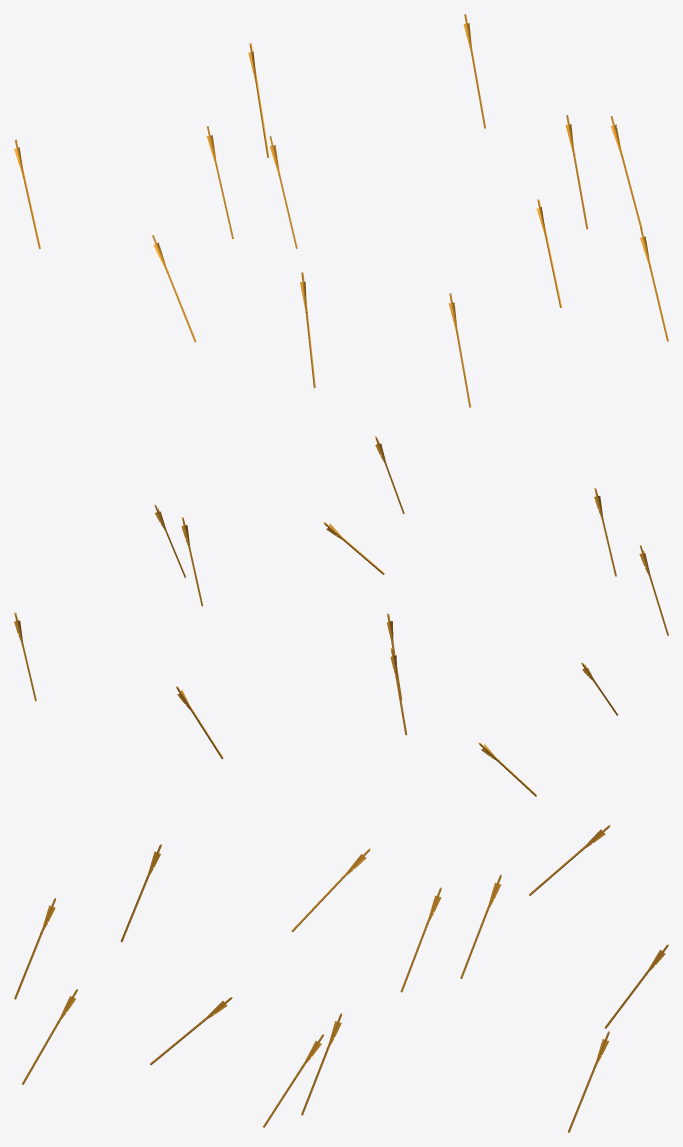
The model's file is SM_Arrows_Inground_C_Fantasy.fbx.
3 views of the same model, one above another, from view 1: azimuth 30°, elevation 25°; view 2: azimuth 150°, elevation 25°; view 3: azimuth 270°, elevation 25° (orthographic). The views are drawn at different scales.
Visible parts, largest first — view 1: arrows-inground-c-fantasy; view 2: arrows-inground-c-fantasy; view 3: arrows-inground-c-fantasy.
Boxes of the visible parts, x1,y1,x2,y2 form: arrows-inground-c-fantasy: (14,14,668,407); arrows-inground-c-fantasy: (14,436,668,796); arrows-inground-c-fantasy: (14,825,668,1132).
Size of the model in its own units: 4.19 by 0.9861 by 4.96.
